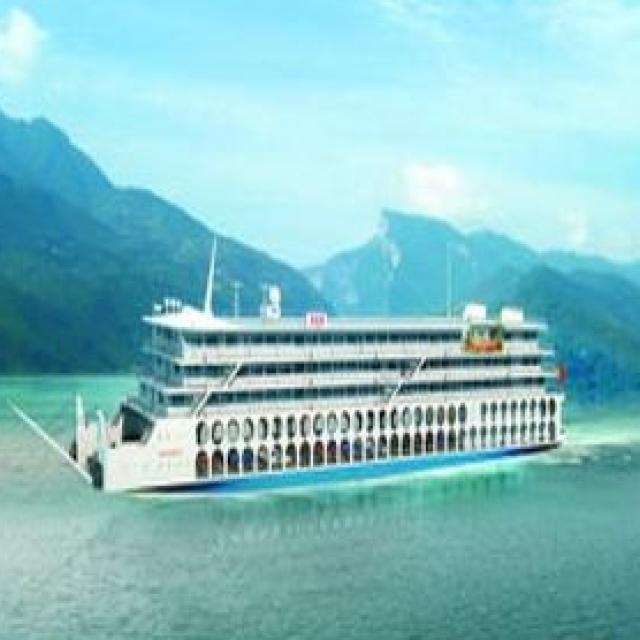passenger ship: (51, 270, 573, 492)
